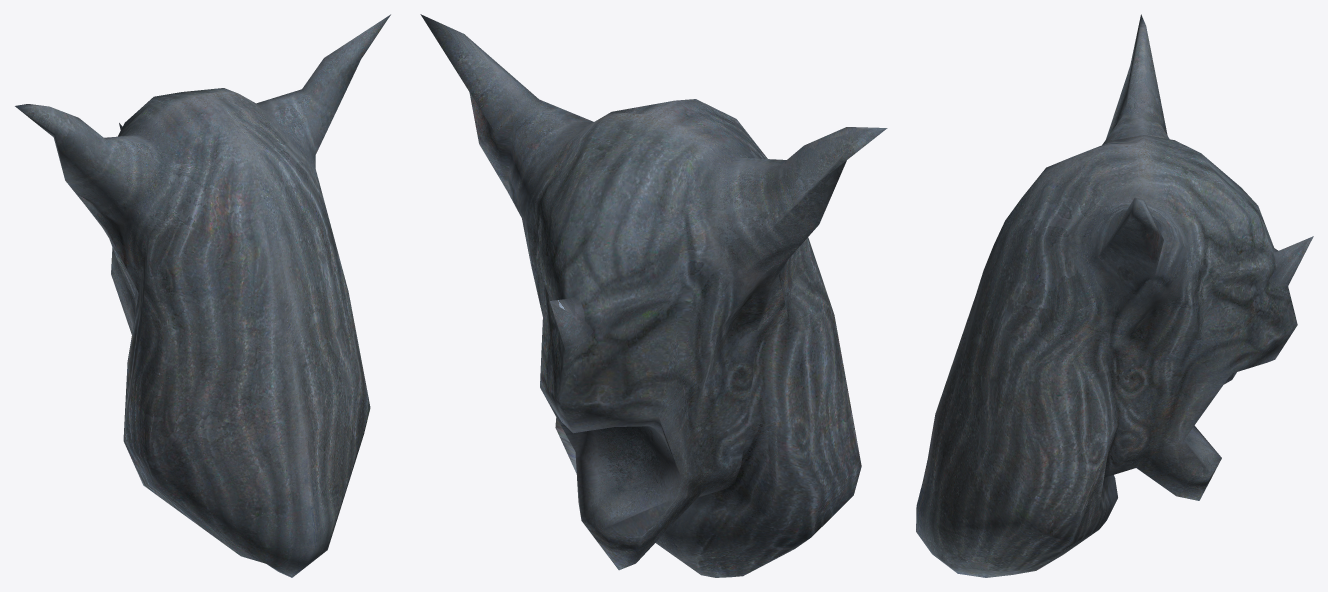
Rendered from Head1Lod3.FBX.
3 renders of one model, left to right at view 1: azimuth 30°, elevation 25°; view 2: azimuth 150°, elevation 25°; view 3: azimuth 270°, elevation 25°, orthographic. The views are drawn at different scales.
Visible parts, largest first — view 1: Group23620; view 2: Group23620; view 3: Group23620.
Part boxes in pixels (x1,y1,x2,y2): Group23620: (15, 14, 390, 577); Group23620: (420, 14, 887, 577); Group23620: (916, 14, 1313, 577).
Bounding box in the file's own units: 157 × 182 × 140.
1 material, 1 textured.
